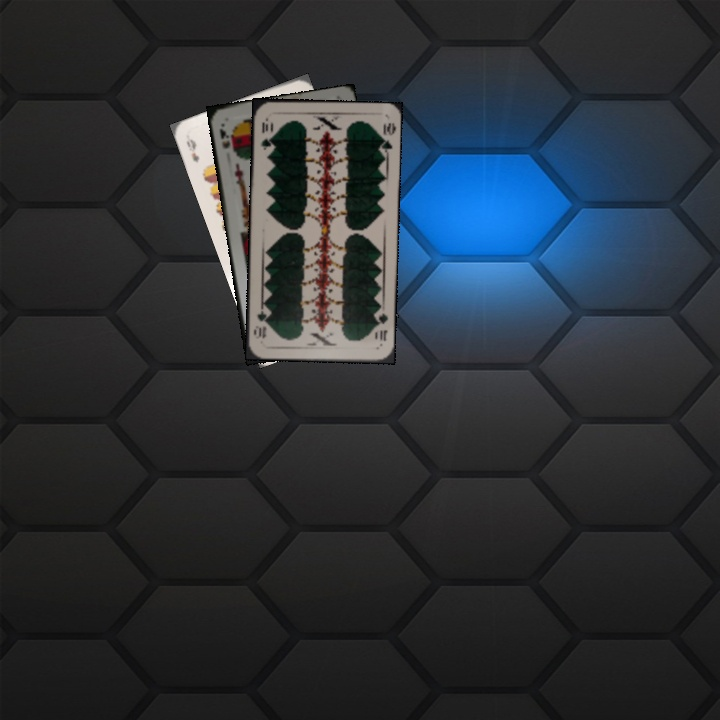E9: (182, 135, 202, 165)
G10: (257, 114, 275, 153), (371, 309, 390, 343)
SK: (215, 125, 237, 154)
